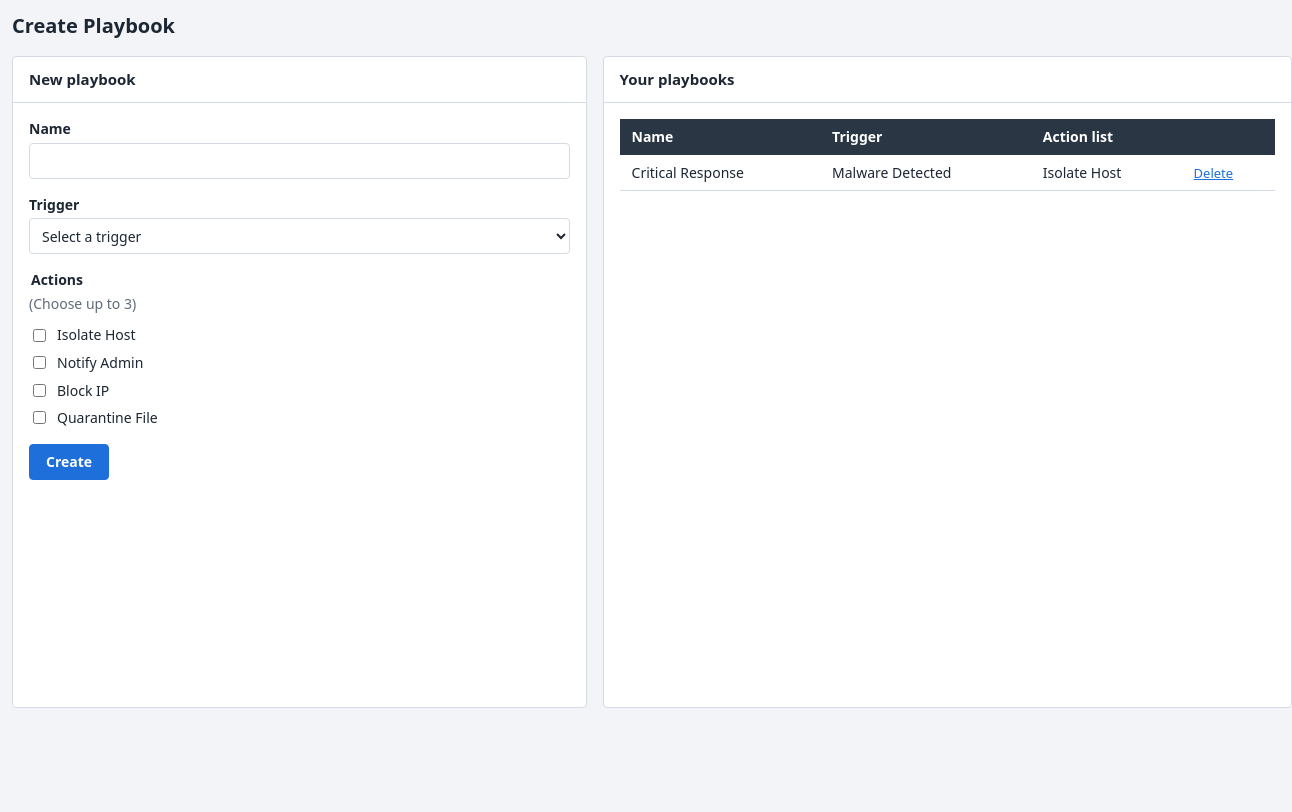
Test: CreatePlaybookPage › ignores a second click while the create request is in flight
Check: the checkbox labelled "Isolate Host" is shown, box [33,329,46,342]
Type "Contain" into the field labelled "Name" at (299, 161), box [29,143,570,179]
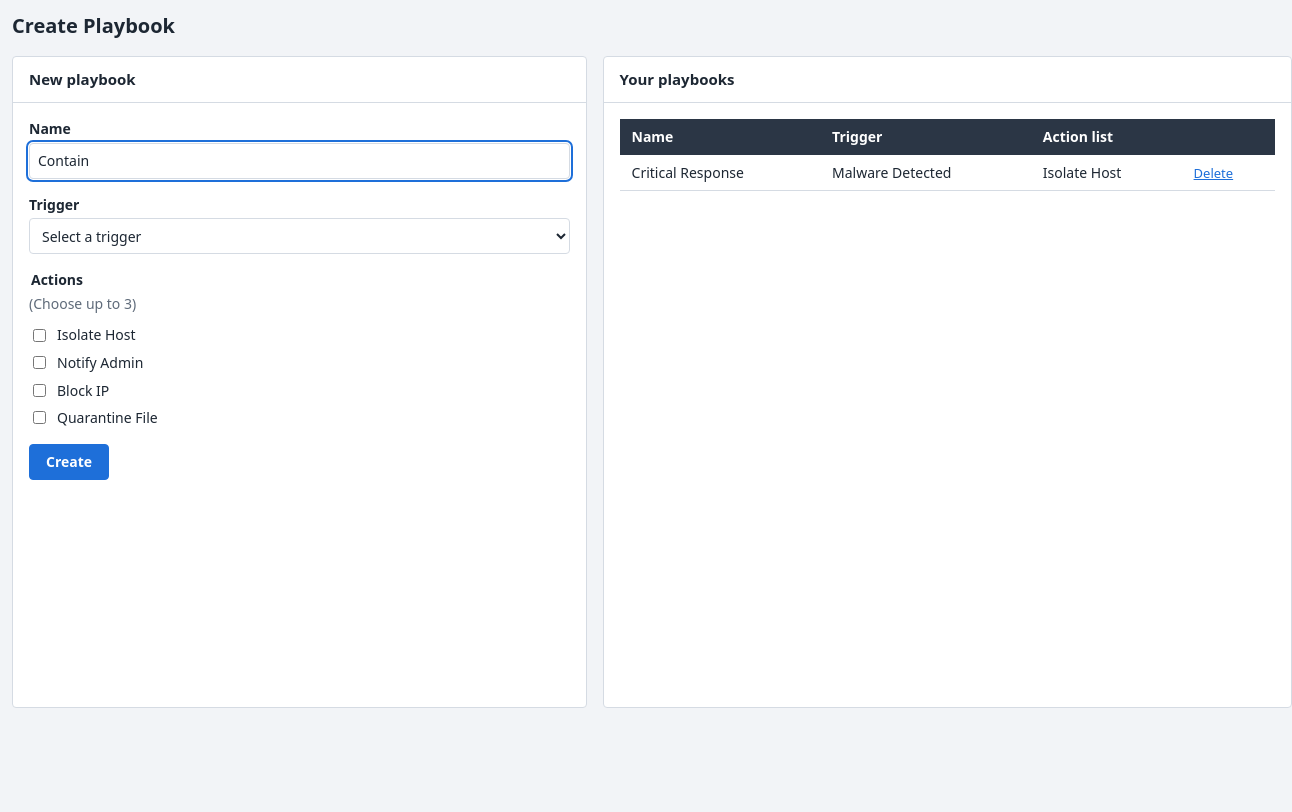
Select "Malware Detected" in the dropdown labelled "Trigger" at (299, 236), box [29,218,570,254]
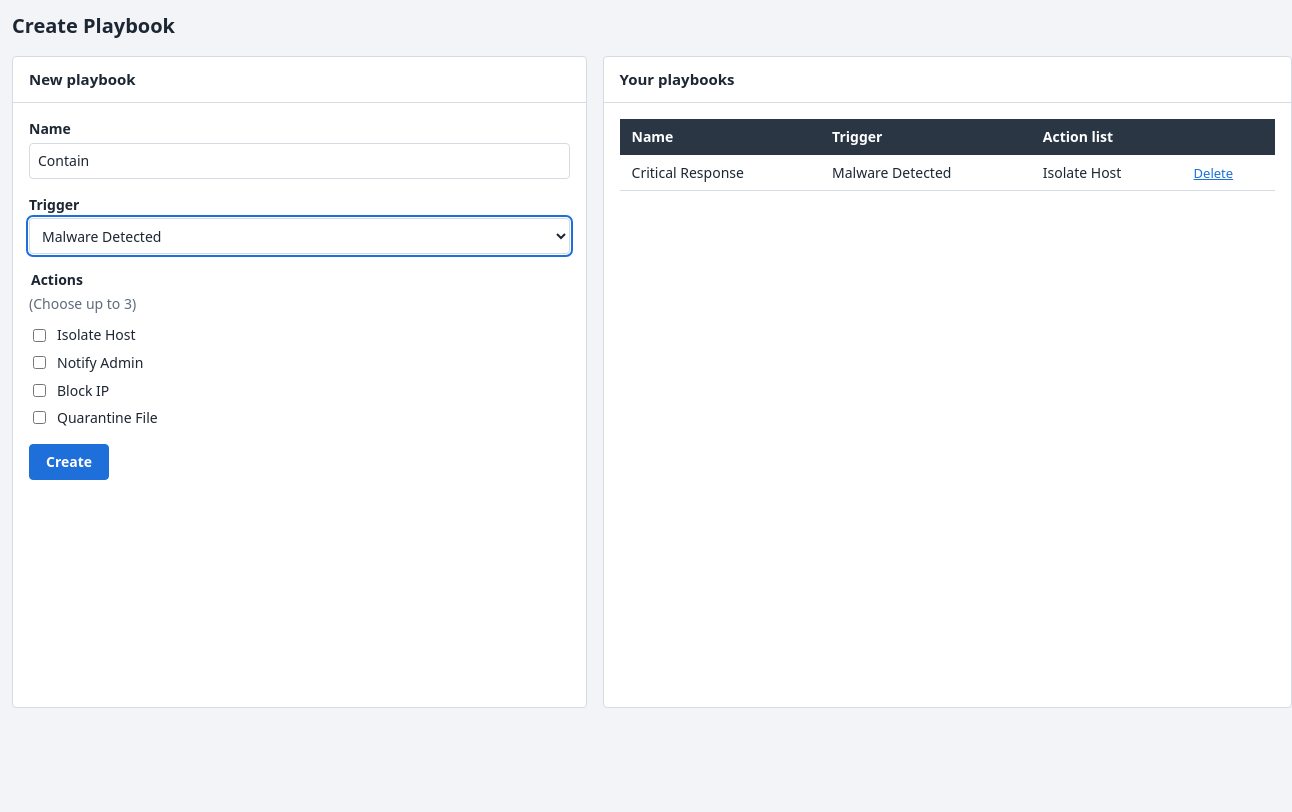
Click the checkbox labelled "Block IP" at (40, 390), box [33,384,46,397]
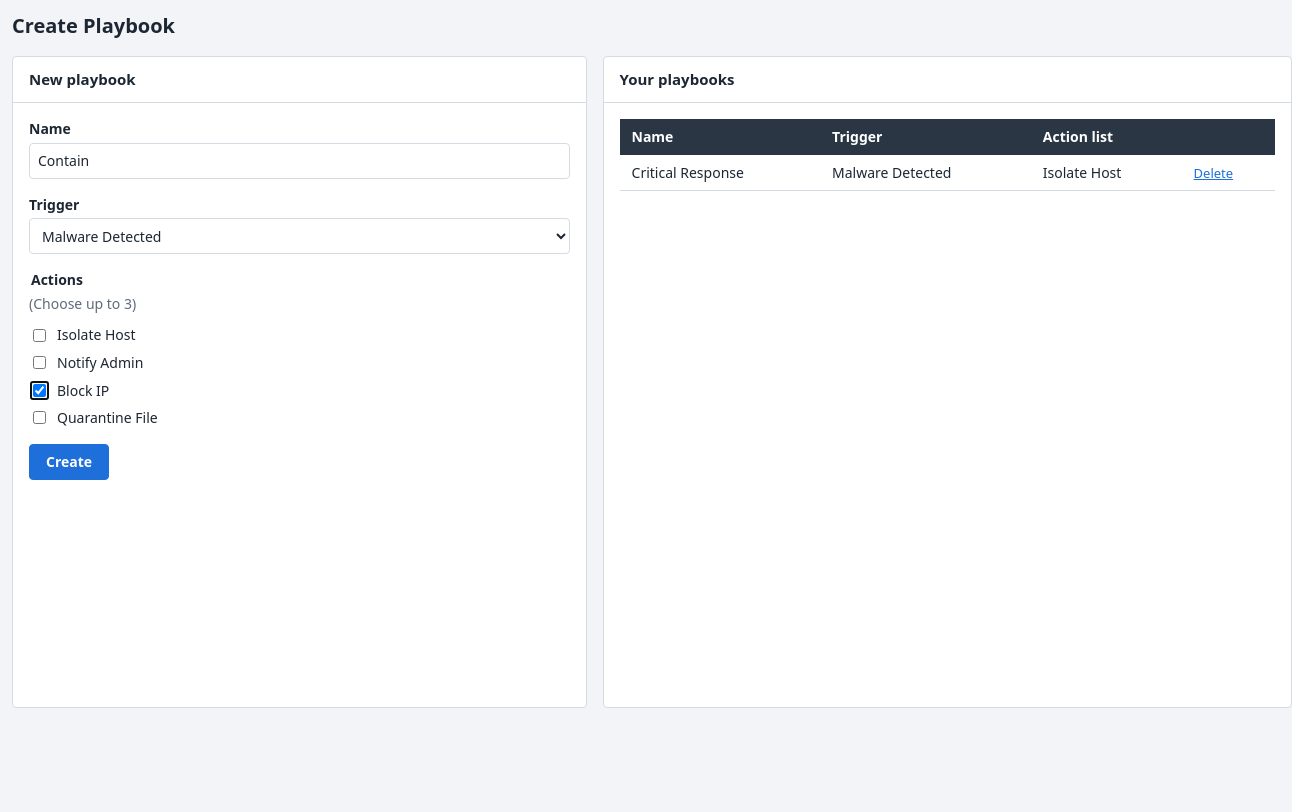
Double-click the button "Create" at (69, 462), box [29,444,109,480]
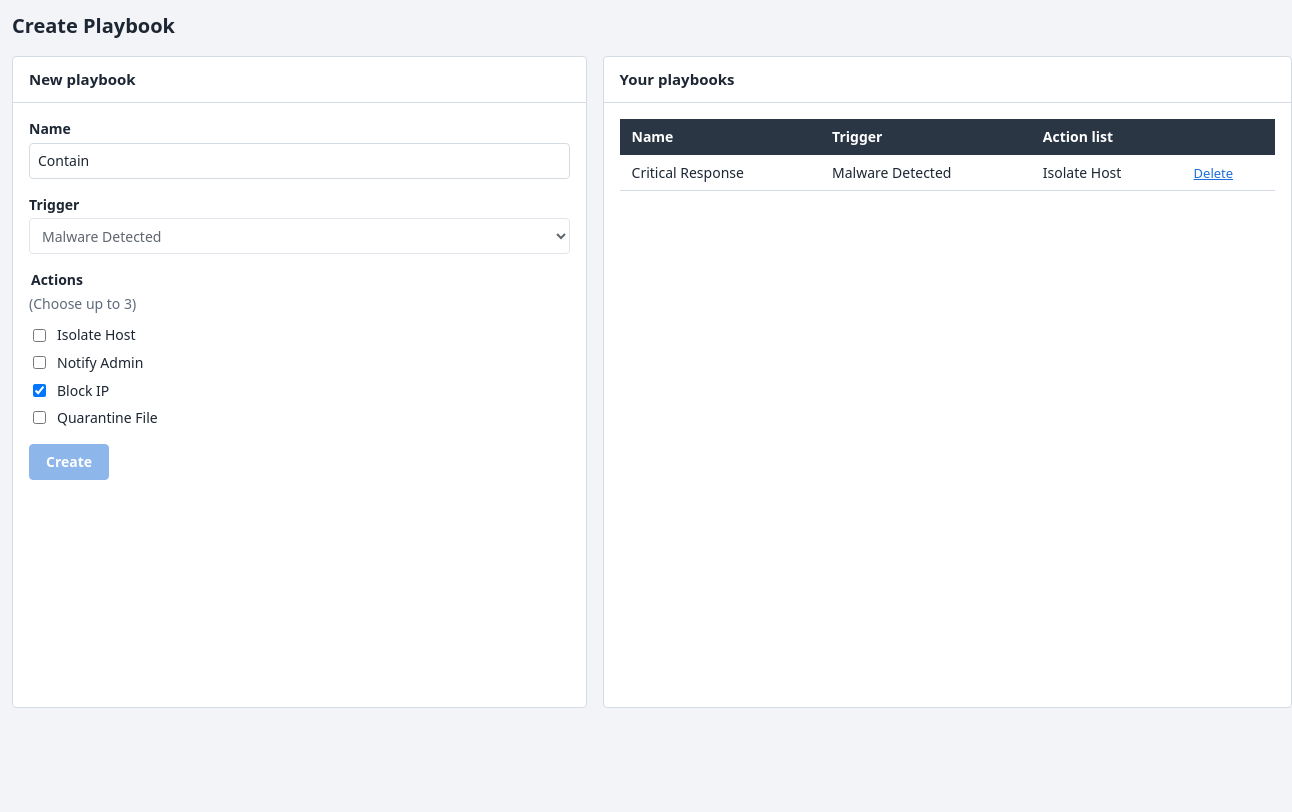
Check: the button "Create" is disabled, box [29,444,109,480]
